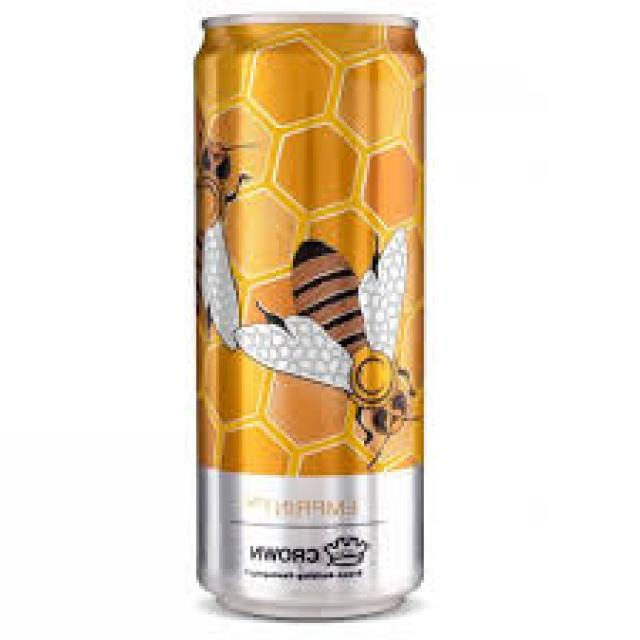metal: (193, 15, 427, 621)
